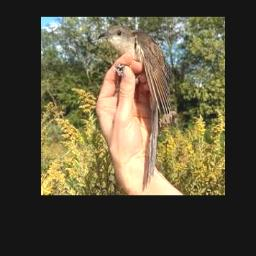Cuckoo: (98, 24, 173, 188)
